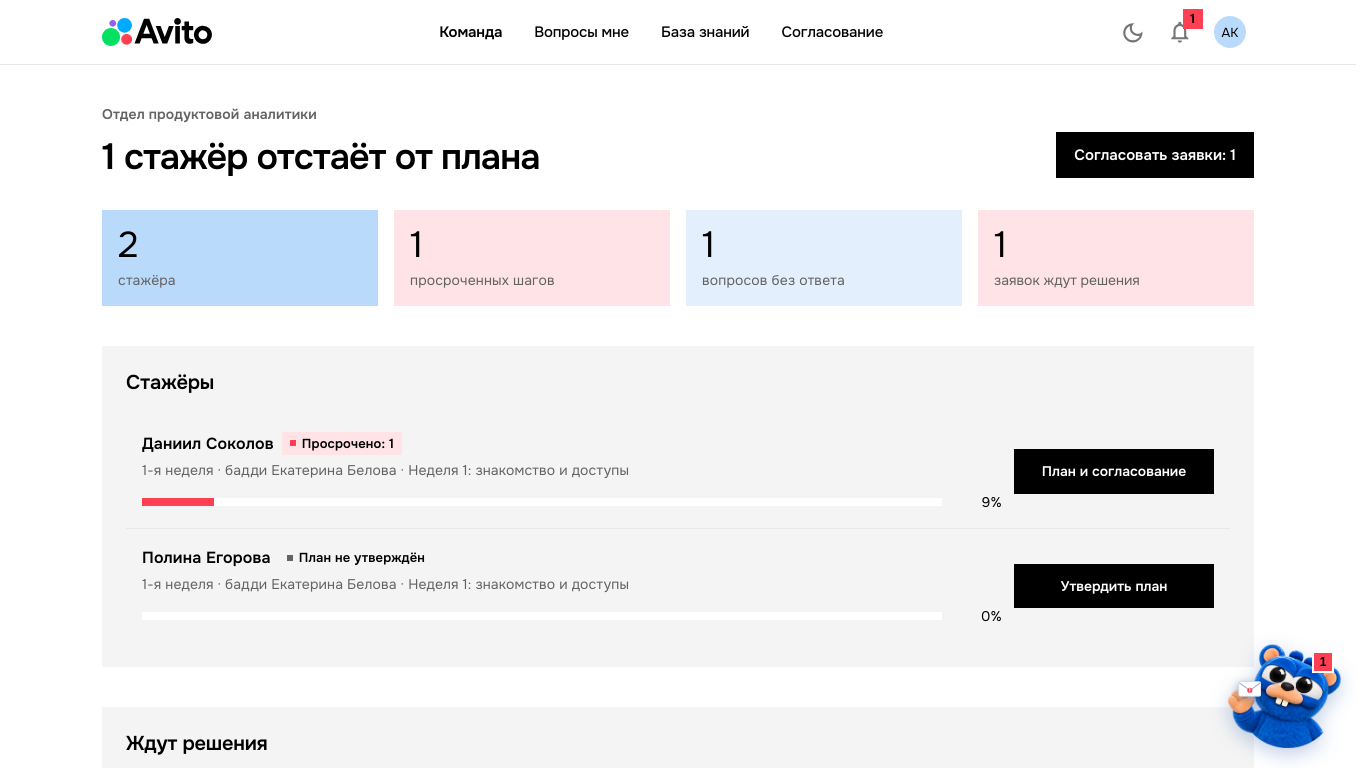
it: настройки руководителя › сбой загрузки настроек — понятная ошибка
Click the button with aria-label "Профиль и тестовые учётки". click: (1230, 32)
box: [1206, 12, 1254, 52]
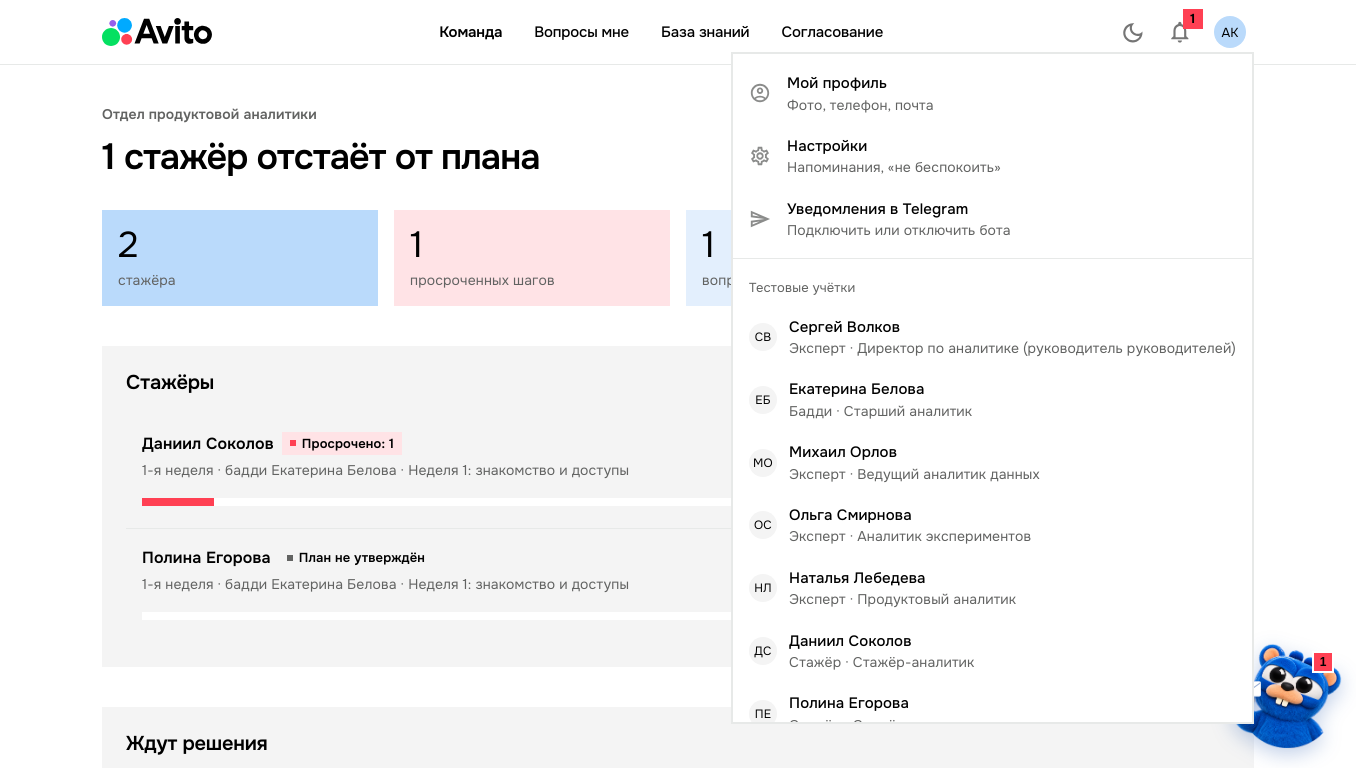
Click the menu item "Настройки Напоминания, «не беспокоить»". click: (875, 156)
box: [749, 136, 1001, 176]
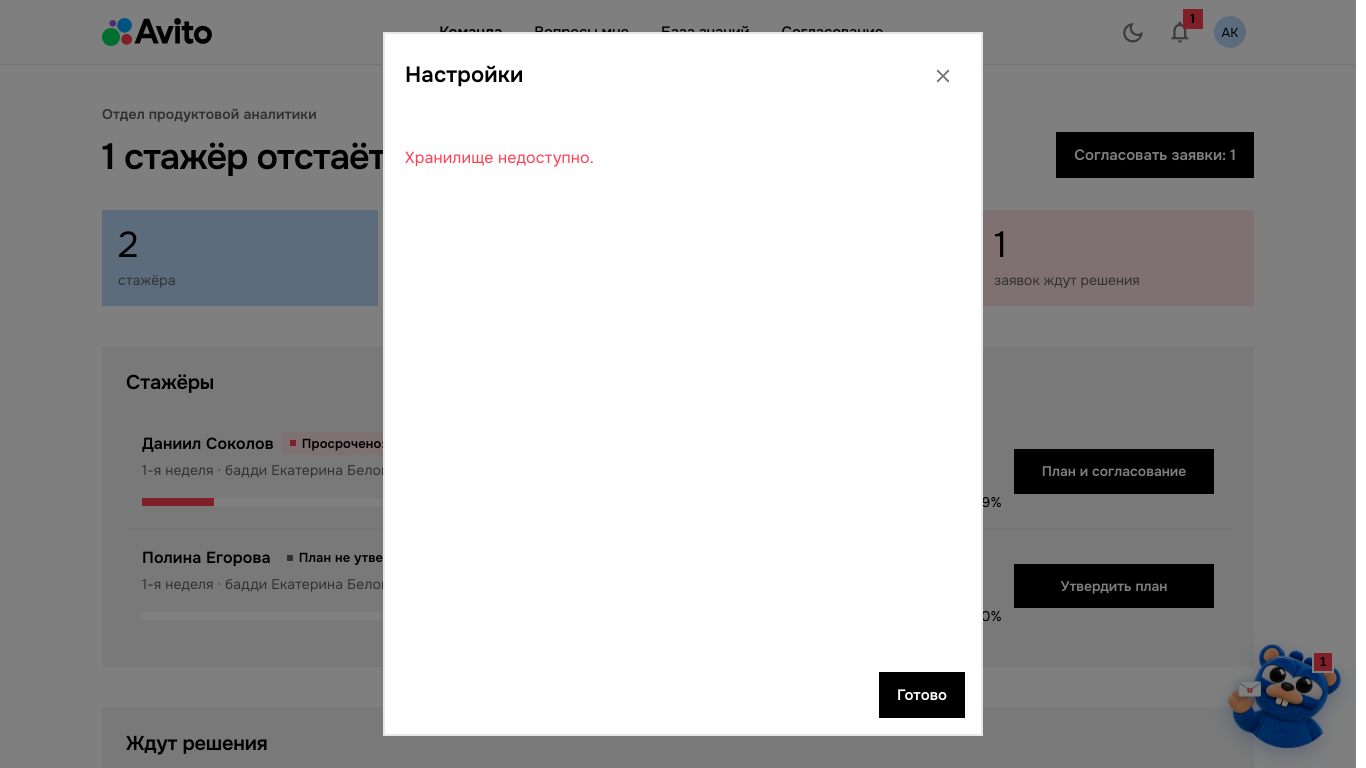
Check: the message shows "Хранилище недоступно", box [405, 147, 594, 168]
